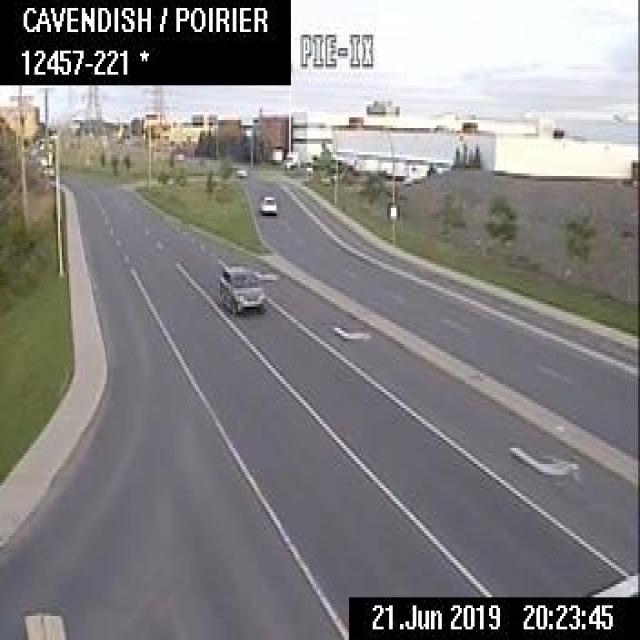vehicle: (218, 261, 264, 312), (259, 192, 276, 211)
